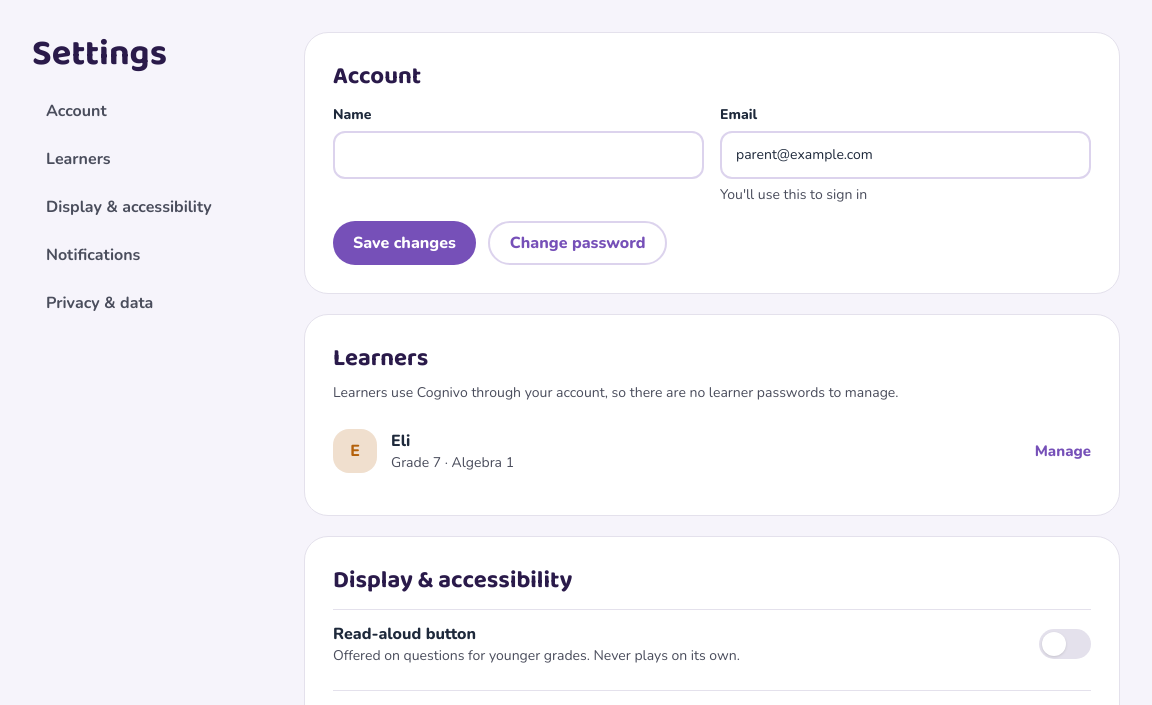
GuardianSettingsPage › shows an error when the current password is wrong
The width and height of the screenshot is (1152, 705).
Expected: the field showing "parent@example.com" is shown, [720,131,1091,179]
Click the button "Change password" at (578, 243), box [488,221,667,265]
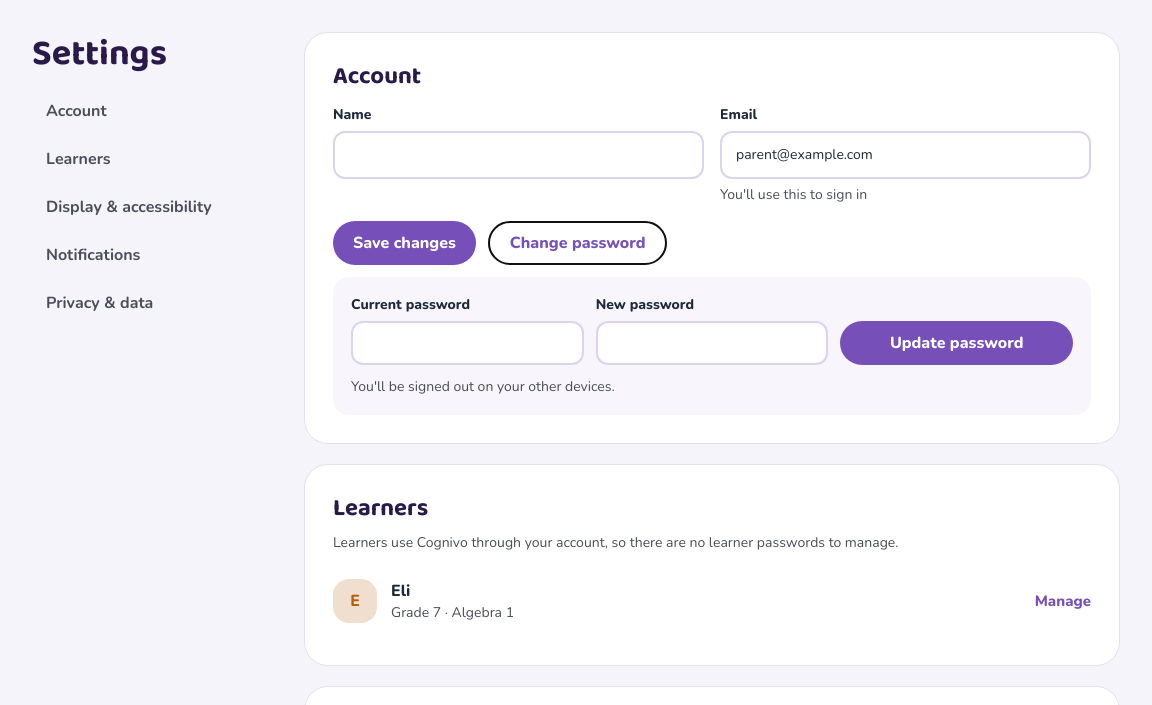
Type "wrong password here" into the password field labelled "Current password" at (467, 343), box [351,321,584,365]
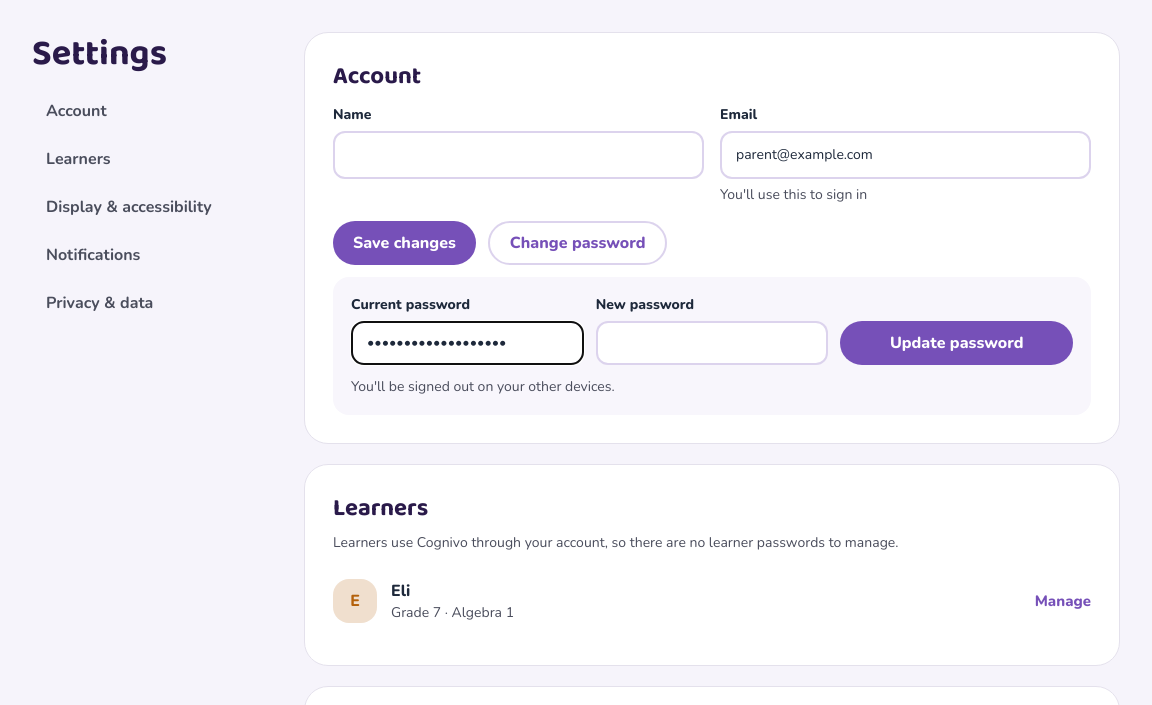
Type "a new password here" into the password field labelled "New password" at (712, 343), box [596,321,828,365]
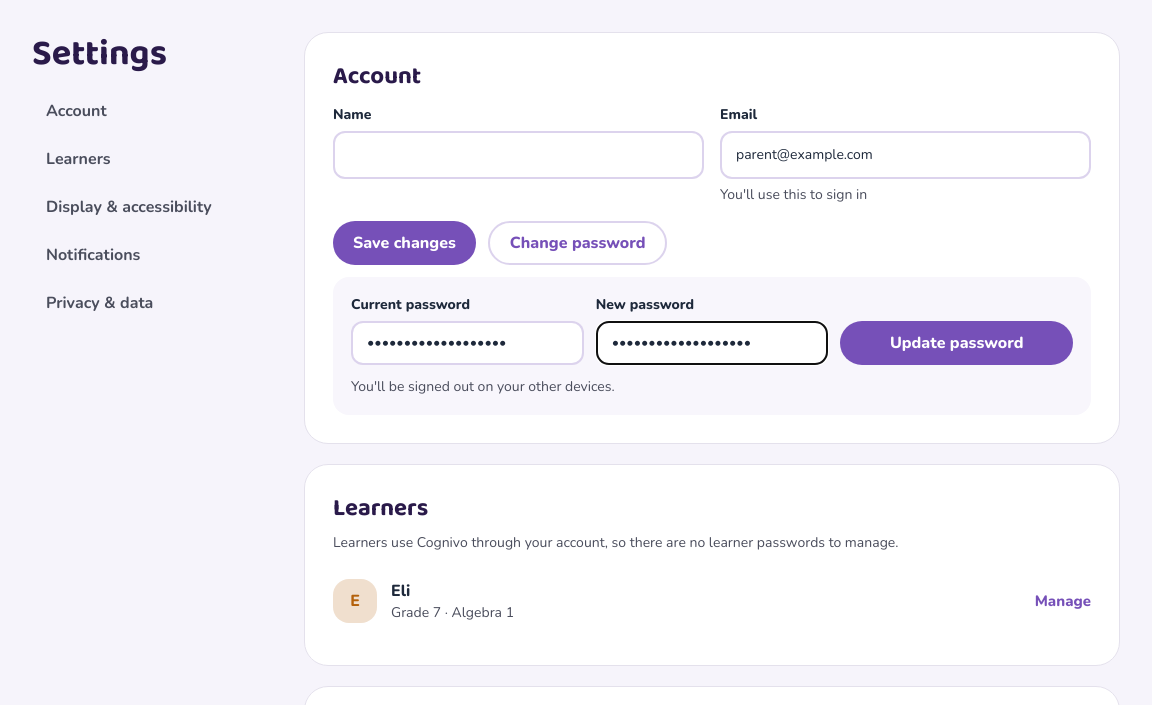
Click the button "Update password" at (957, 343), box [840,321,1073,365]
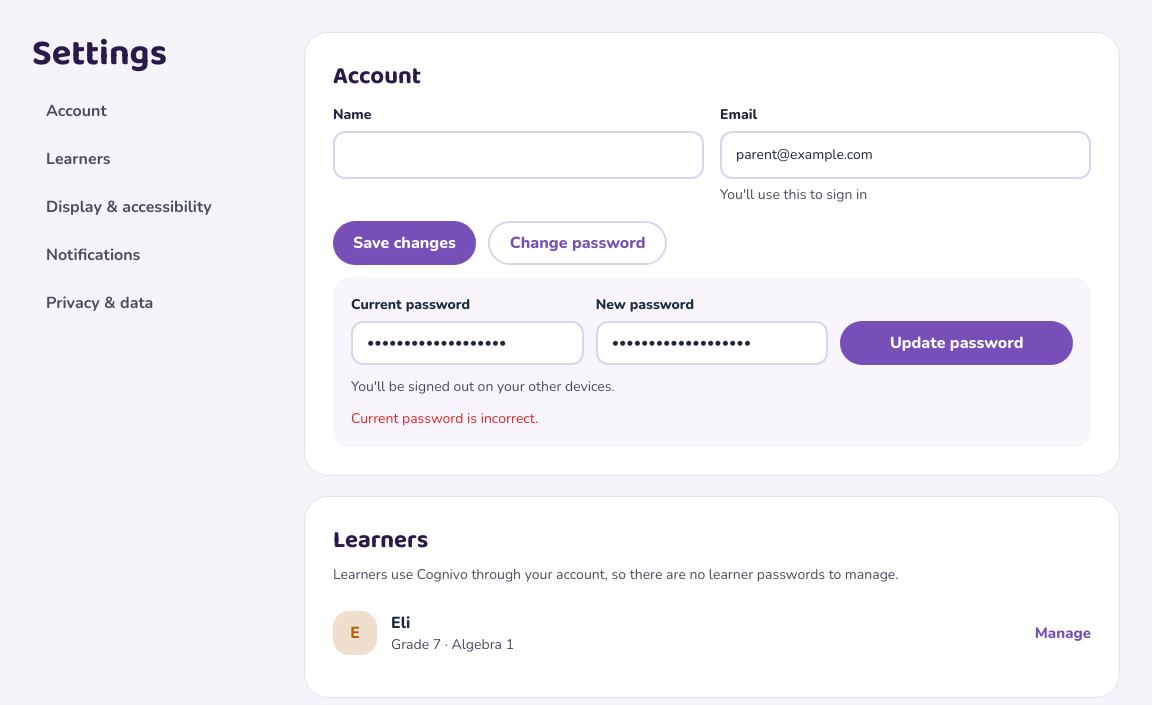
Expected: the text "Current password is incorrect." is shown, [351,409,538,428]
